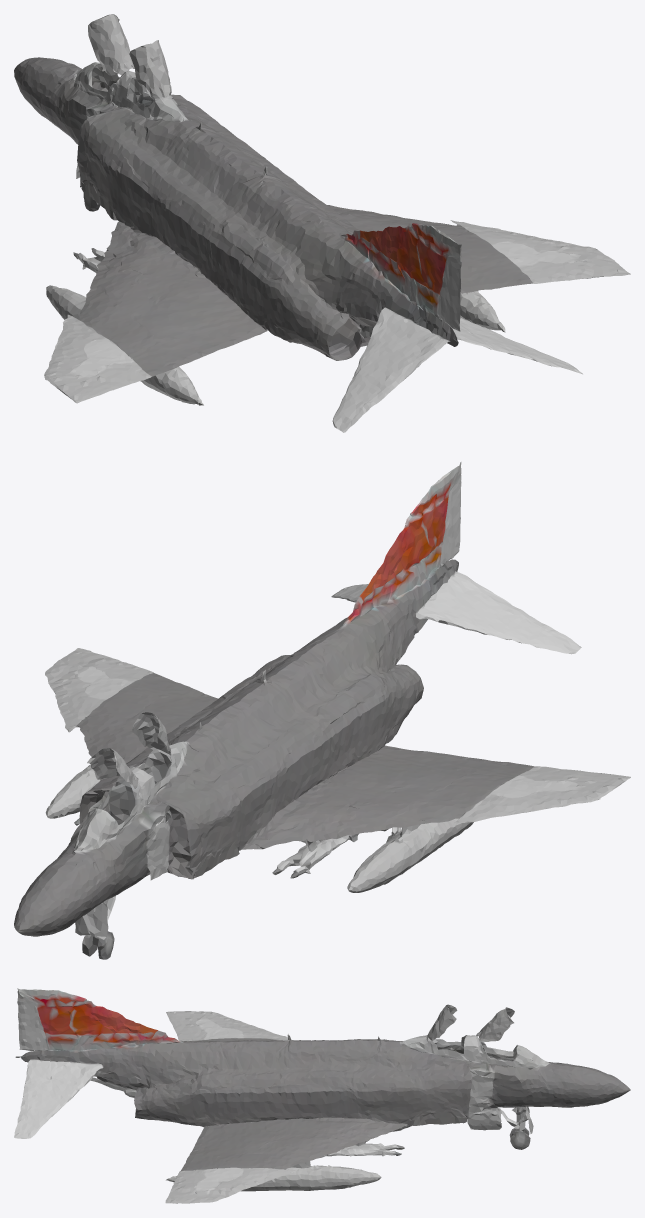
3 renders of one model, top to bottom at view 1: azimuth 30°, elevation 25°; view 2: azimuth 150°, elevation 25°; view 3: azimuth 270°, elevation 25°, orthographic. The views are drawn at different scales.
Parts seen in each view (by area): view 1: defaultobject; view 2: defaultobject; view 3: defaultobject.
Part boxes in pixels (bbox=[...]): defaultobject: bbox=[14, 14, 630, 432]; defaultobject: bbox=[14, 462, 630, 959]; defaultobject: bbox=[14, 988, 630, 1203].
Bounding box in the file's own units: 0.6822 × 0.2699 × 0.9475.
